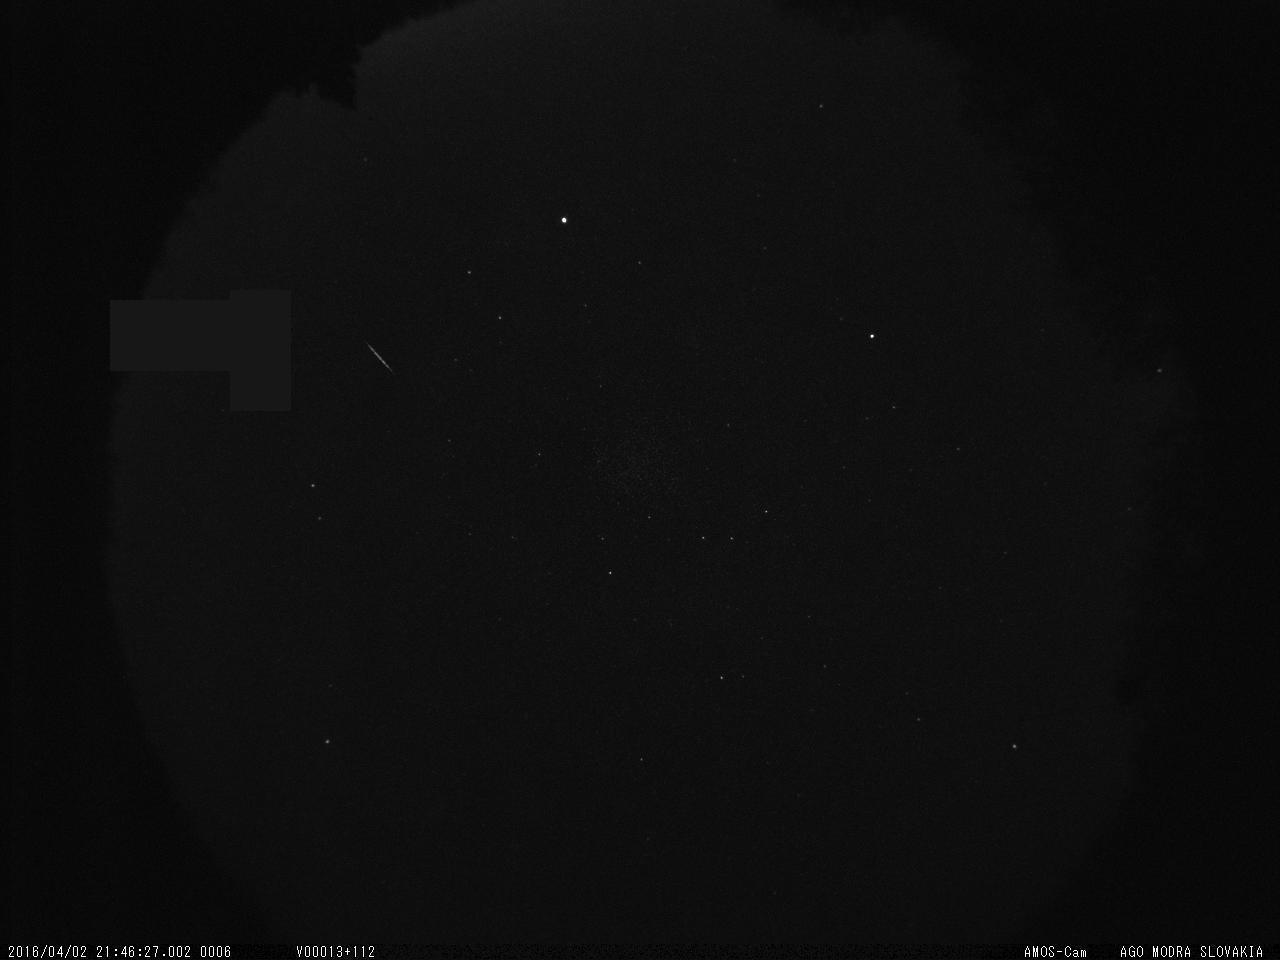meteor: (358, 339, 401, 379)
